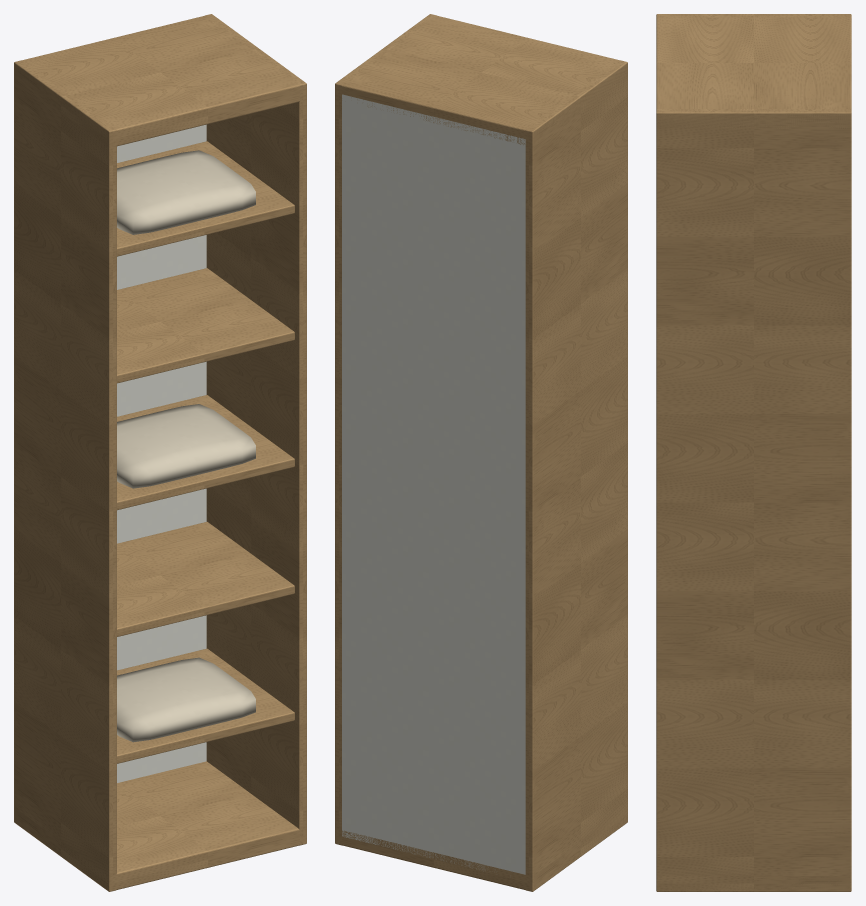
3 renders of one model, left to right at view 1: azimuth 30°, elevation 25°; view 2: azimuth 150°, elevation 25°; view 3: azimuth 270°, elevation 25°, orthographic. The views are drawn at different scales.
Visible parts, largest first — view 1: Cabinet side, Cabinet side.001, Cabinet top bottom.001, Cabinet top bottom, Cabinet back, Adjustable shelf.003, Adjustable shelf.001, Folded textile, Folded textile.002, Folded textile.001, Adjustable shelf, Adjustable shelf.004 (+1 smaller); view 2: Cabinet back, Cabinet side, Cabinet top bottom.001, Cabinet side.001, Cabinet top bottom; view 3: Cabinet side.001, Cabinet top bottom.001, Cabinet top bottom, Cabinet side.
Boxes of the visible parts, left/top/right/bottom form: Cabinet side: left=14, top=60, right=116, bottom=891; Cabinet side.001: left=205, top=14, right=306, bottom=845; Cabinet top bottom.001: left=14, top=15, right=303, bottom=146; Cabinet top bottom: left=14, top=761, right=305, bottom=890; Cabinet back: left=117, top=124, right=206, bottom=782; Adjustable shelf.003: left=117, top=268, right=294, bottom=383; Adjustable shelf.001: left=117, top=522, right=294, bottom=636; Folded textile: left=117, top=657, right=255, bottom=742; Folded textile.002: left=117, top=150, right=255, bottom=234; Folded textile.001: left=117, top=404, right=255, bottom=488; Adjustable shelf: left=117, top=648, right=294, bottom=763; Adjustable shelf.004: left=117, top=141, right=294, bottom=256; Cabinet back: left=342, top=94, right=525, bottom=874; Cabinet side: left=525, top=60, right=627, bottom=891; Cabinet top bottom.001: left=336, top=15, right=627, bottom=146; Cabinet side.001: left=335, top=14, right=436, bottom=845; Cabinet top bottom: left=336, top=808, right=627, bottom=890; Cabinet side.001: left=656, top=109, right=851, bottom=891; Cabinet top bottom.001: left=656, top=17, right=851, bottom=128; Cabinet top bottom: left=657, top=876, right=850, bottom=890; Cabinet side: left=656, top=14, right=851, bottom=17.
Size of the model in its own units: 0.6 by 2.2 by 0.5.
3 materials, 3 textured.
